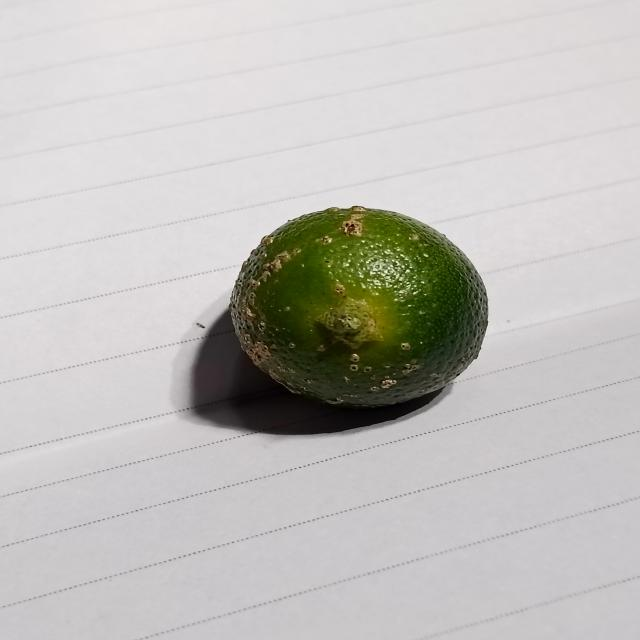scab: (222, 197, 496, 419)
